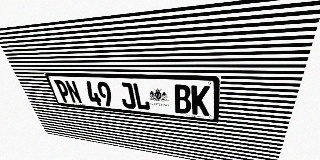4: (83, 81, 103, 106)
9: (96, 81, 115, 107)
B: (173, 84, 191, 114)
J: (118, 82, 137, 109)
K: (191, 85, 210, 116)
L: (132, 83, 151, 110)
N: (64, 80, 83, 104)
P: (54, 80, 73, 103)
